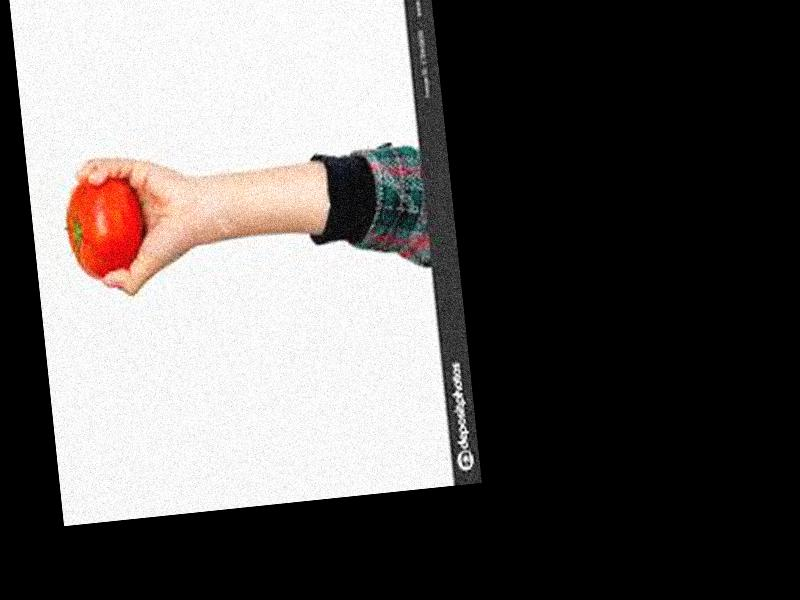Tomato: (59, 171, 149, 282)
